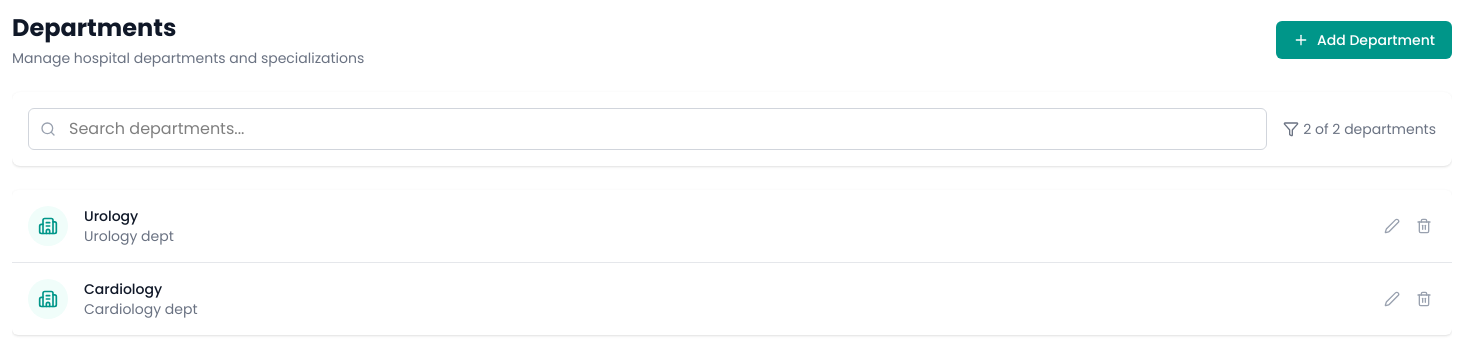
Test: Departments › Search › should filter departments by search query
Check: the text "Urology" is shown, box x1=84 y1=206 x2=138 y2=226
Check: the text "Cardiology" is shown, box x1=84 y1=279 x2=162 y2=299
Step 1. Type "Urology" into the field with placeholder "Search departments..." → (648, 129), box x1=28 y1=108 x2=1267 y2=150
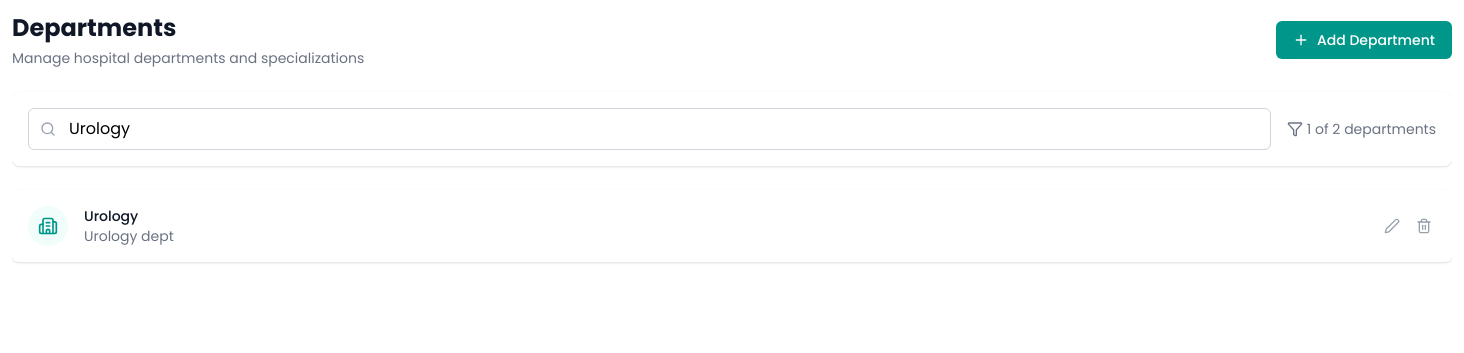
Check: the text "Urology" is shown, box x1=84 y1=206 x2=138 y2=226
Check: the text "Cardiology" is gone
